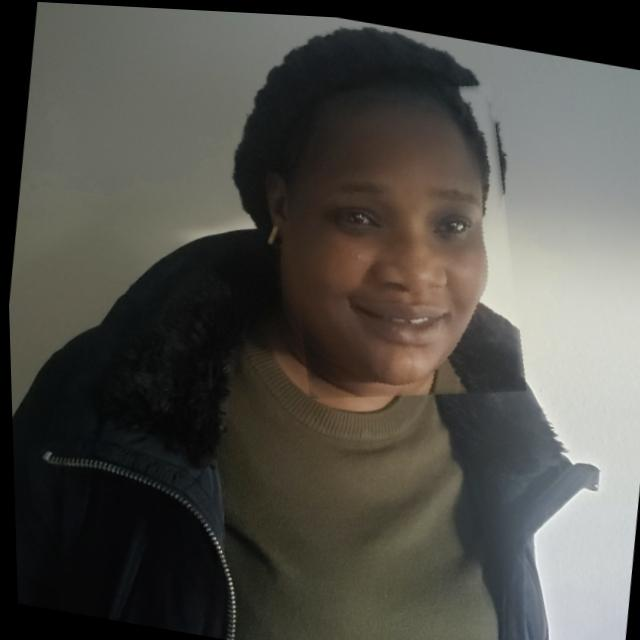happy: (253, 55, 546, 420)
